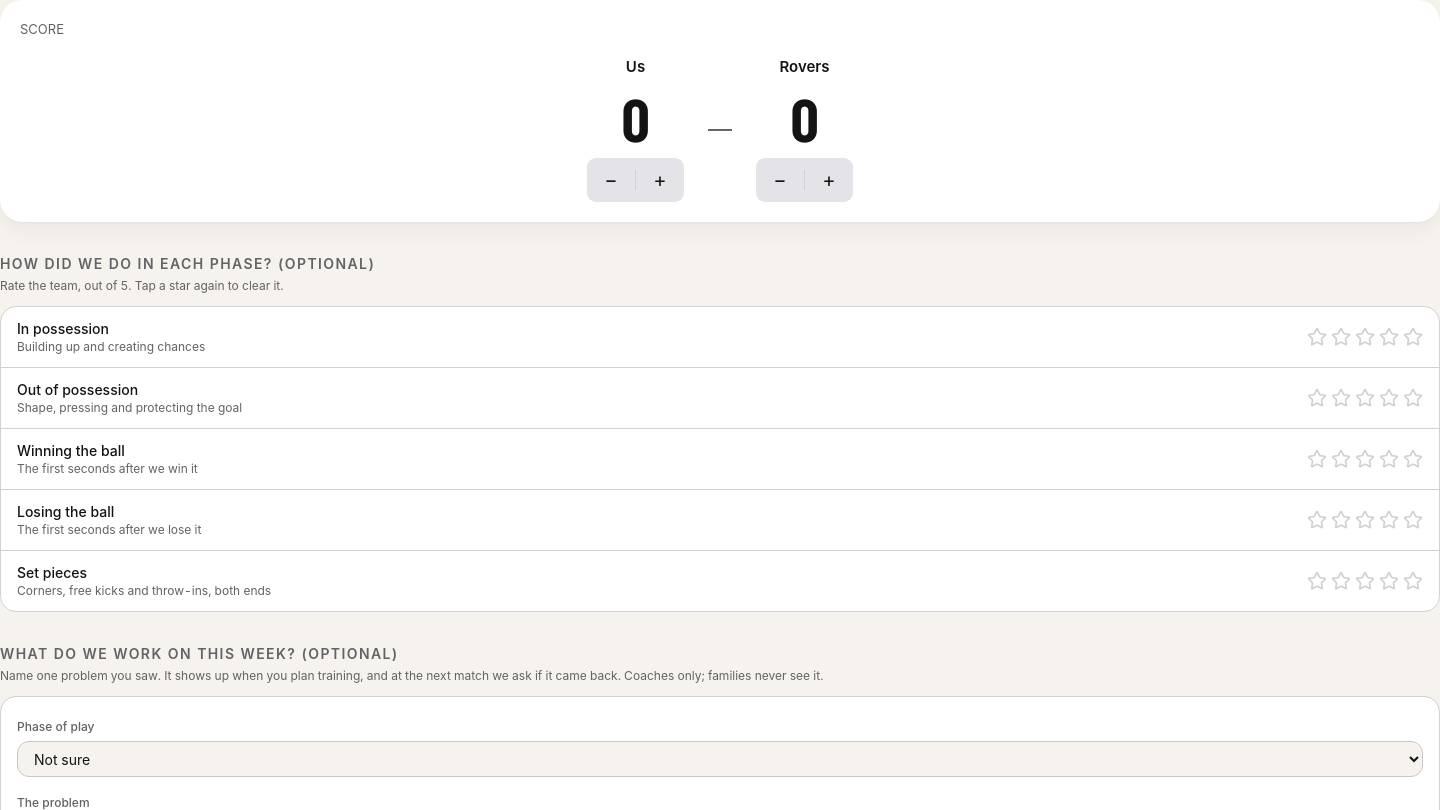
Test: offers the shared problems to U11 and not the U13 ones
The width and height of the screenshot is (1440, 810).
Select "In possession" in the dropdown labelled "Phase of play". click: (720, 759)
box: [17,741,1423,777]
(page scrolled)
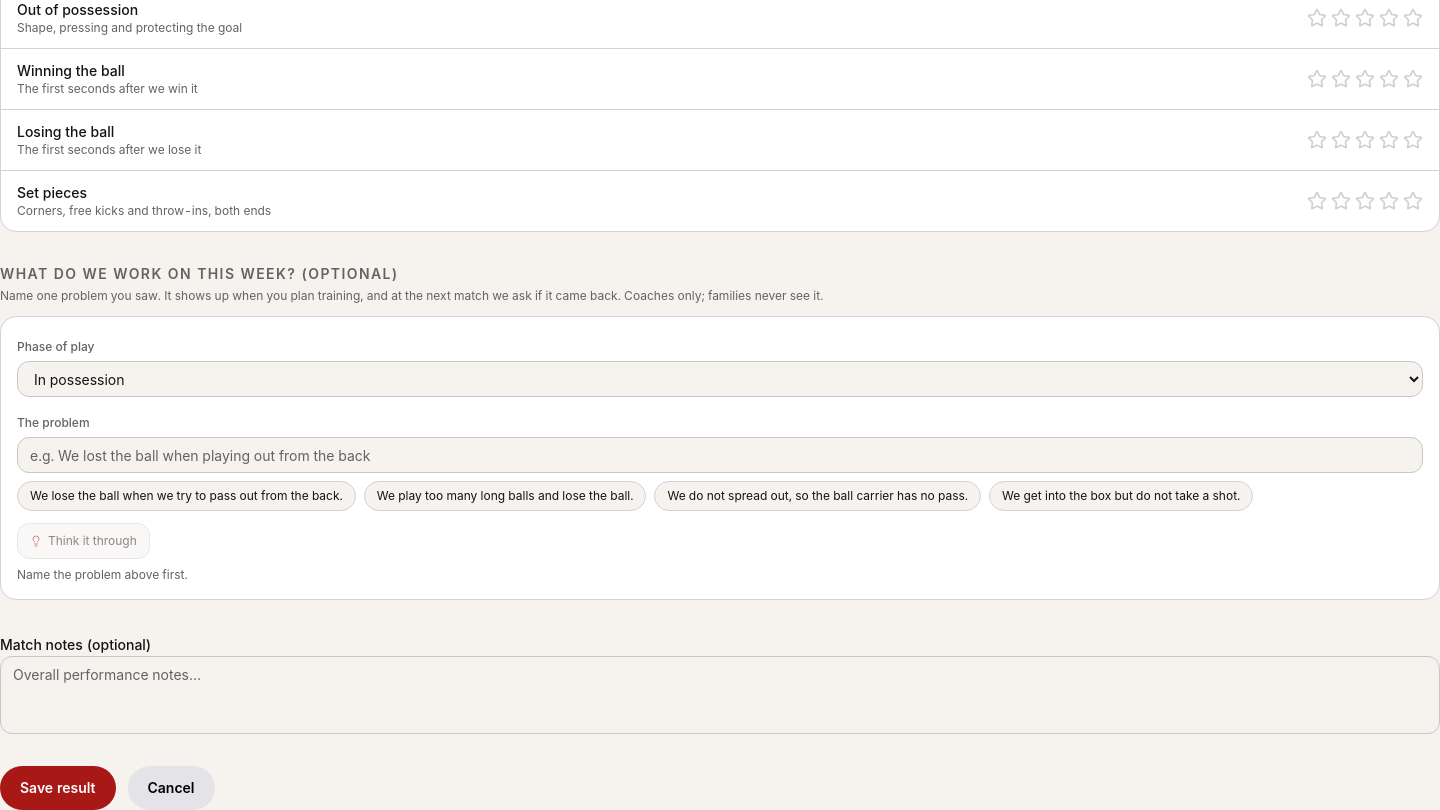
Result: the button "We play too many long balls and lose the ball." is shown at [364,481,646,511]
